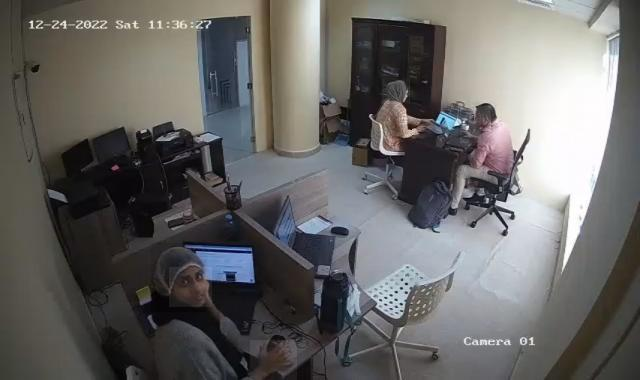gloves: (151, 243, 207, 312)
no_apron: (250, 340, 297, 380), (460, 121, 481, 143), (413, 120, 434, 138), (420, 118, 438, 127)
no_gloves: (382, 78, 410, 105), (474, 102, 497, 130)
no_hairnet: (169, 267, 212, 307), (475, 107, 492, 132), (398, 78, 409, 104)
